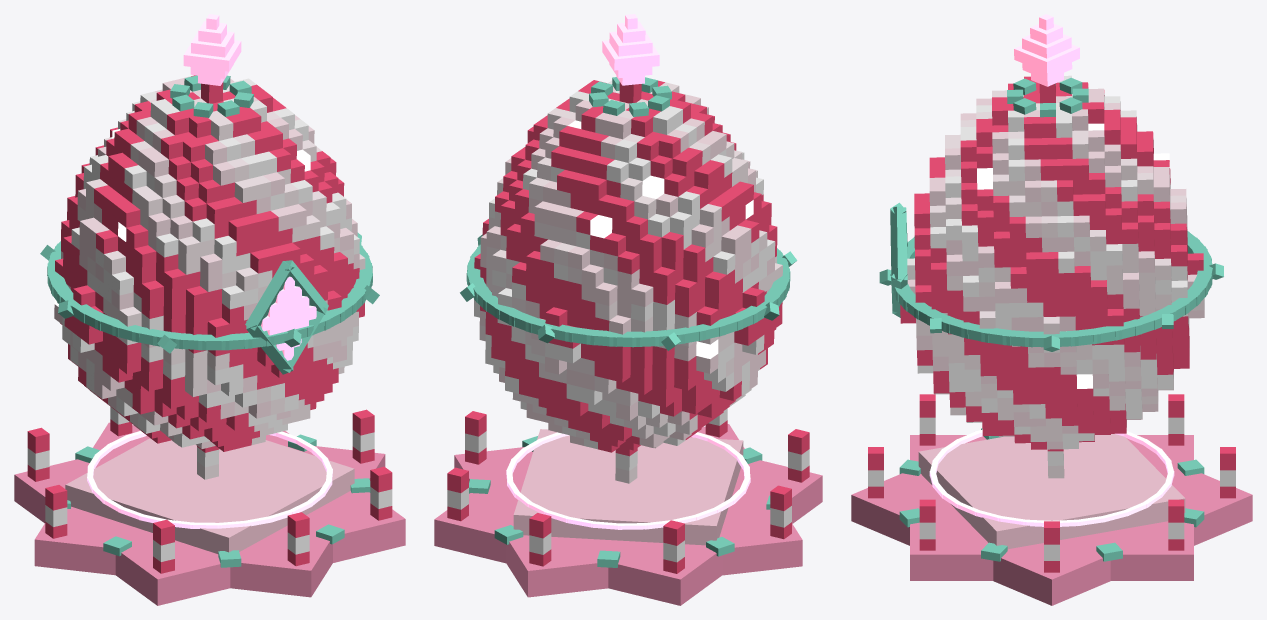
The model's file is egg_raro_caramelo.glb.
The picture shows the model from 3 angles, left to right: view 1: azimuth 30°, elevation 25°; view 2: azimuth 150°, elevation 25°; view 3: azimuth 270°, elevation 25°; orthographic projection.
Parts seen in each view (by area): view 1: shell_geo, root_geo, egg_geo, emblem_geo, crown_geo; view 2: shell_geo, root_geo, egg_geo, crown_geo; view 3: shell_geo, root_geo, egg_geo, crown_geo, emblem_geo.
Part boxes in pixels (left/top/right/bottom): shell_geo: left=54, top=75, right=365, bottom=479; root_geo: left=14, top=406, right=405, bottom=605; egg_geo: left=40, top=232, right=379, bottom=353; emblem_geo: left=245, top=260, right=328, bottom=374; crown_geo: left=170, top=14, right=253, bottom=117; shell_geo: left=474, top=80, right=782, bottom=483; root_geo: left=434, top=408, right=822, bottom=605; egg_geo: left=460, top=234, right=797, bottom=350; crown_geo: left=589, top=14, right=671, bottom=116; shell_geo: left=900, top=75, right=1204, bottom=478; root_geo: left=851, top=394, right=1252, bottom=605; egg_geo: left=879, top=231, right=1223, bottom=351; crown_geo: left=1007, top=14, right=1088, bottom=117; emblem_geo: left=890, top=202, right=907, bottom=317.
Size of the model in its own units: 5.52 by 7.65 by 5.52.
